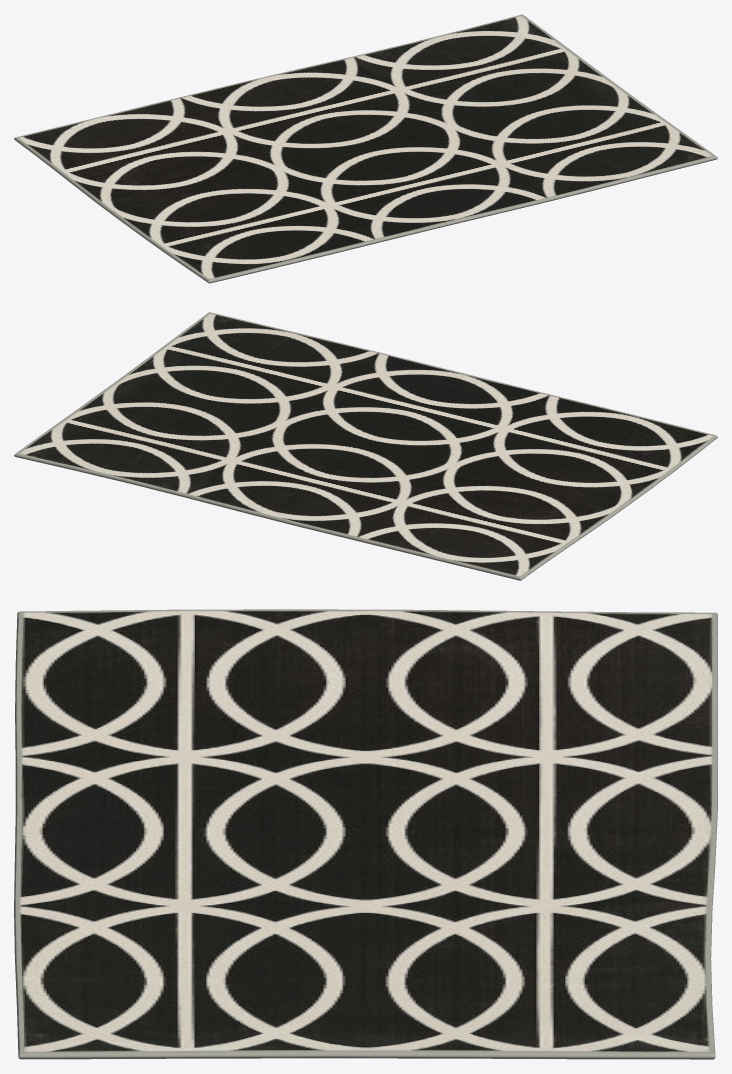
File: B07NXTKC72.glb
3 renders of one model, top to bottom at view 1: azimuth 30°, elevation 25°; view 2: azimuth 150°, elevation 25°; view 3: azimuth 270°, elevation 25°, orthographic. The views are drawn at different scales.
Parts seen in each view (by area): view 1: RootNode; view 2: RootNode; view 3: RootNode.
Part boxes in pixels (x1,y1,x2,y2): RootNode: (14, 14, 717, 283); RootNode: (14, 312, 717, 580); RootNode: (14, 609, 717, 1059).
Bounding box in the file's own units: 2.29 × 0.0136 × 1.53.
Materials: 1 (1 with a texture image).
